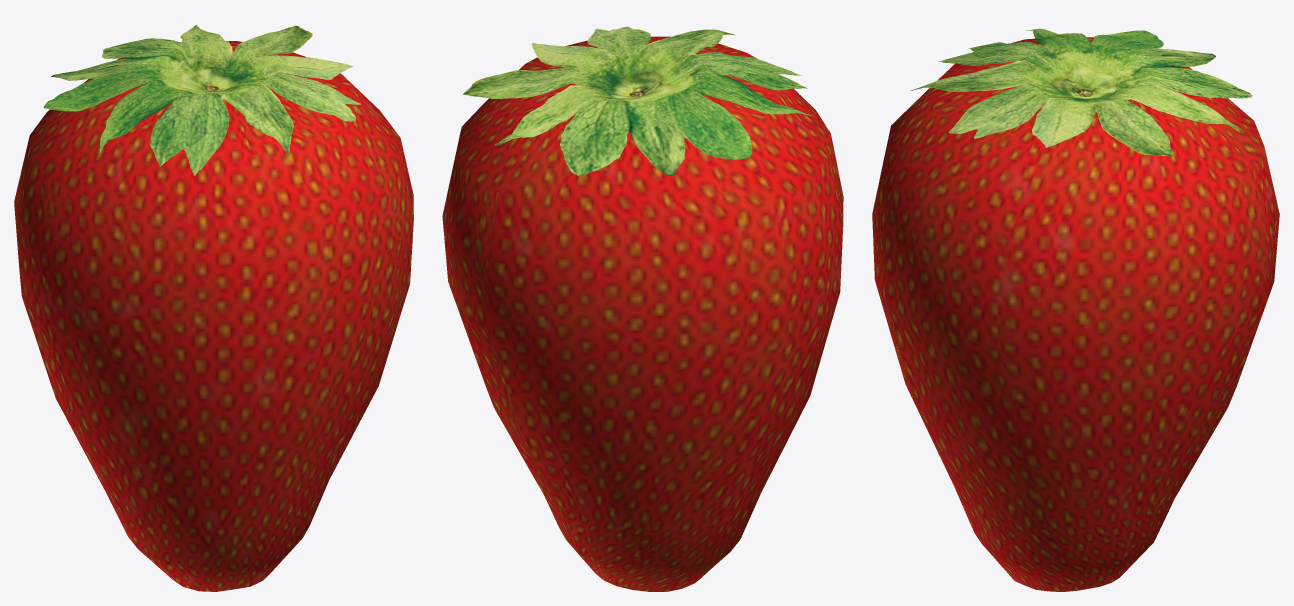
The model's file is Strawberry.fbx.
3 renders of one model, left to right at view 1: azimuth 30°, elevation 25°; view 2: azimuth 150°, elevation 25°; view 3: azimuth 270°, elevation 25°, orthographic. The views are drawn at different scales.
Parts seen in each view (by area): view 1: Strawberry; view 2: Strawberry; view 3: Strawberry.
Part boxes in pixels (box(x1,y1,x2,y2)): Strawberry: box(14, 25, 413, 591); Strawberry: box(442, 26, 843, 591); Strawberry: box(872, 28, 1279, 591).
Bounding box in the file's own units: 0.0294 × 0.0294 × 0.0413.
